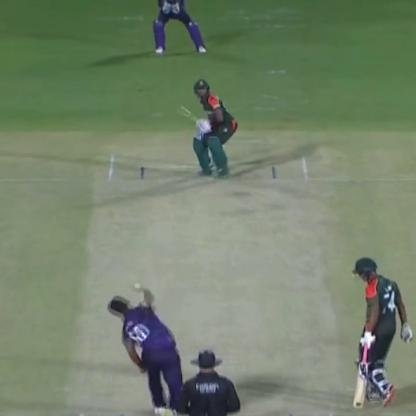ball: (131, 280, 145, 294)
bat: (170, 96, 208, 132)
pitch: (79, 145, 351, 416)
